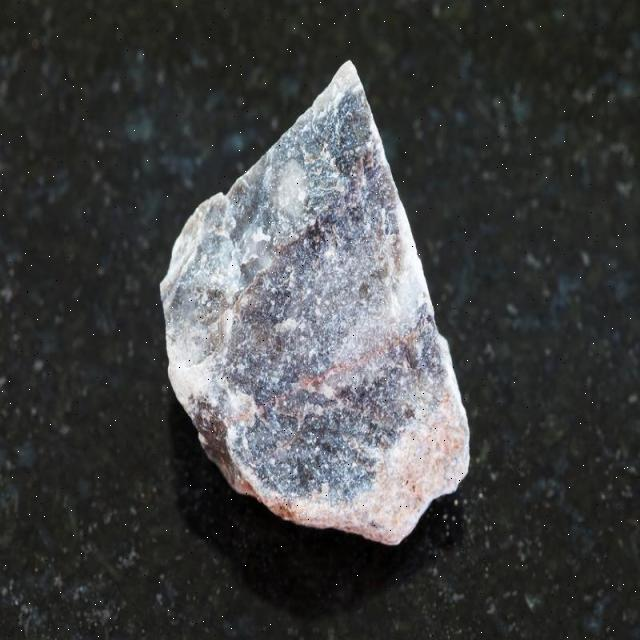Sedimentary: (154, 57, 492, 562)
